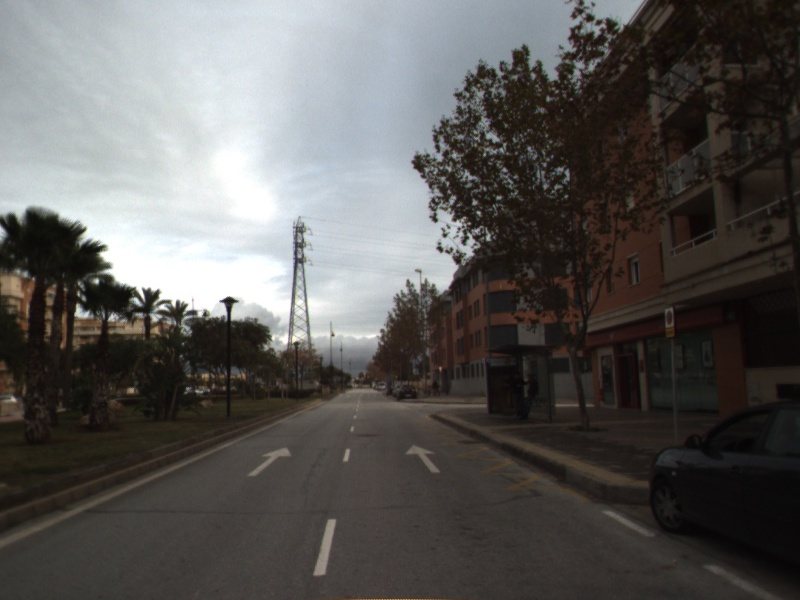STRAIGHT: (246, 445, 293, 478), (403, 443, 442, 475)
